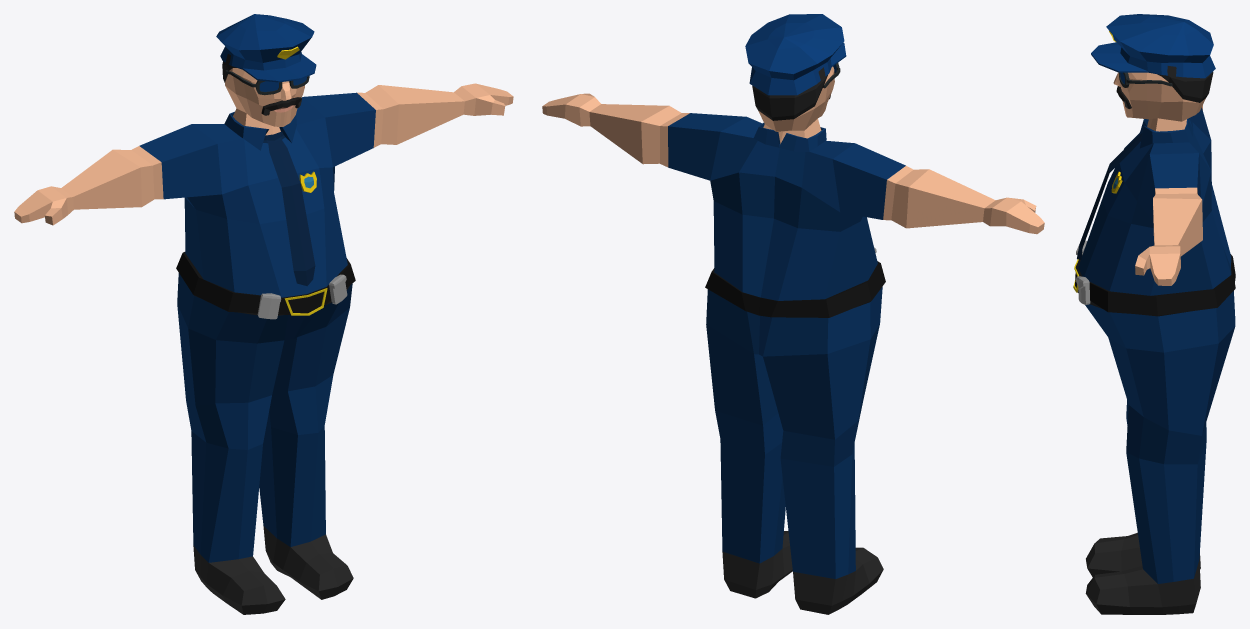
The model's file is Police_Boss.fbx.
3 views of the same model, side by side, from view 1: azimuth 30°, elevation 25°; view 2: azimuth 150°, elevation 25°; view 3: azimuth 270°, elevation 25° (orthographic).
Visible parts, largest first — view 1: Cube.011; view 2: Cube.011; view 3: Cube.011.
Part boxes in pixels (<box>): Cube.011: <box>14,14,513,614</box>; Cube.011: <box>542,14,1044,614</box>; Cube.011: <box>1073,14,1235,614</box>.
Size of the model in its own units: 3.84 by 1.08 by 4.16.
